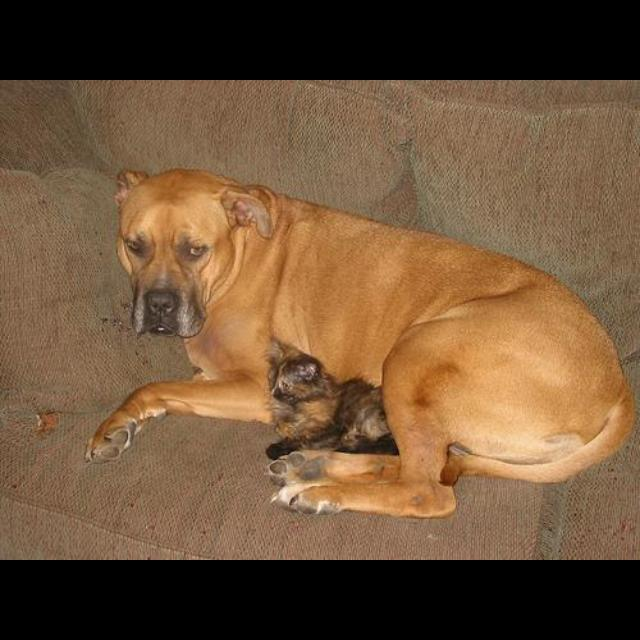bullmastiff: (85, 167, 636, 520)
